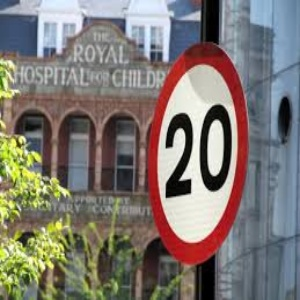20 speed: (147, 43, 249, 264)
